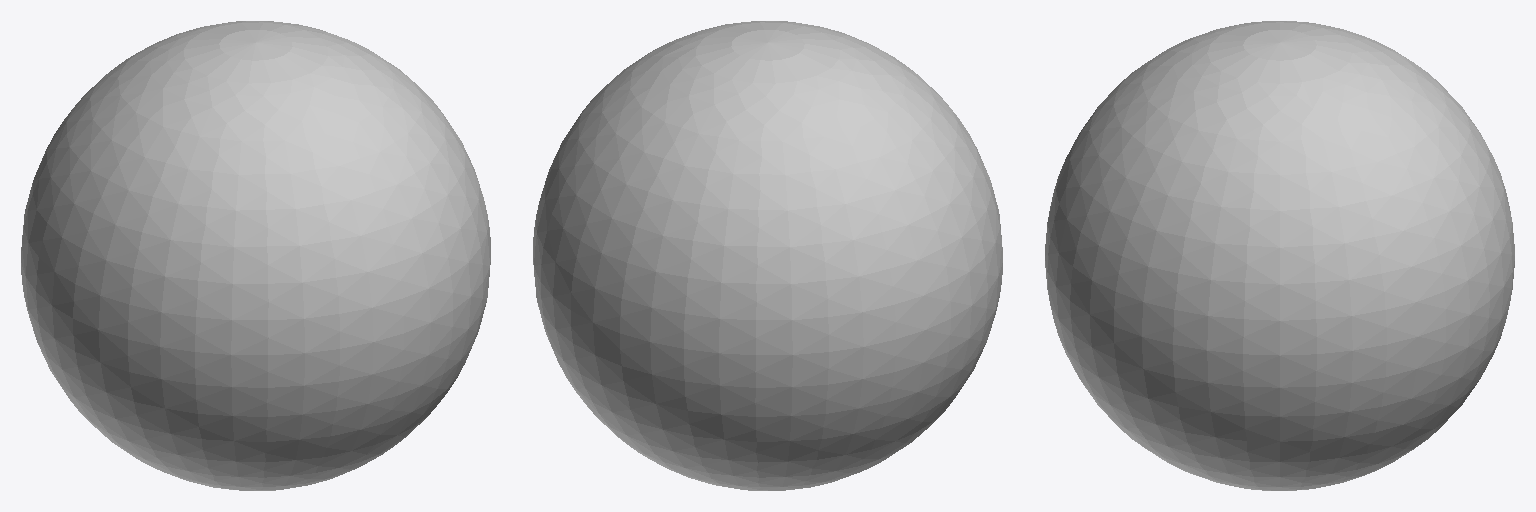
Rendered from maya_sphere.obj.
The picture shows the model from 3 angles: view 1: azimuth 30°, elevation 25°; view 2: azimuth 150°, elevation 25°; view 3: azimuth 270°, elevation 25°; orthographic projection.
Parts seen in each view (by area): view 1: pSphere1; view 2: pSphere1; view 3: pSphere1.
Boxes of the visible parts, <box> form: pSphere1: <box>21,21,490,490</box>; pSphere1: <box>533,21,1002,490</box>; pSphere1: <box>1045,21,1514,490</box>.
Size of the model in its own units: 2 by 2 by 2.